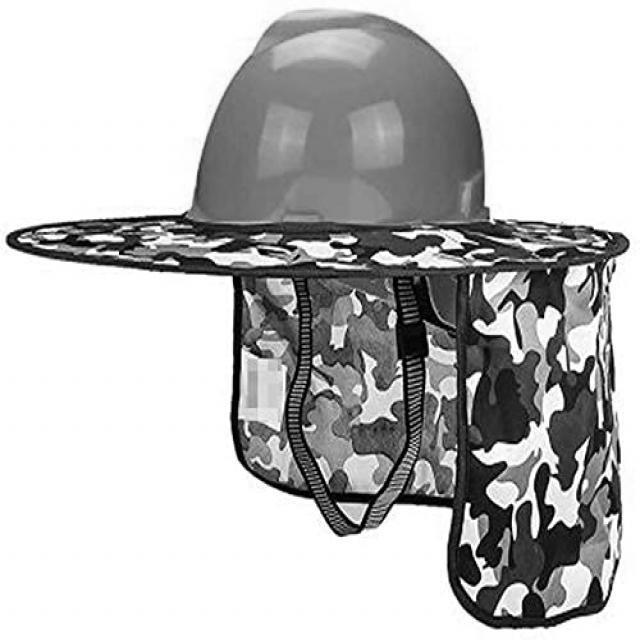safety_helmet: (184, 9, 488, 231)
